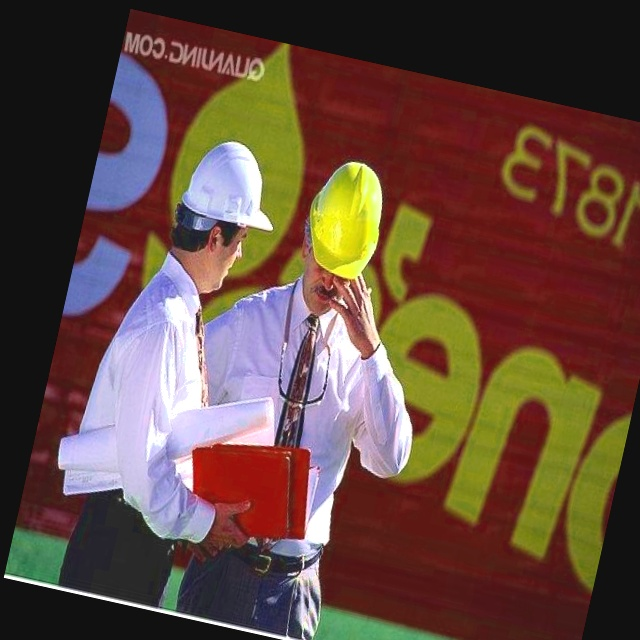Con_Casco: (160, 131, 288, 298), (288, 154, 397, 305)
